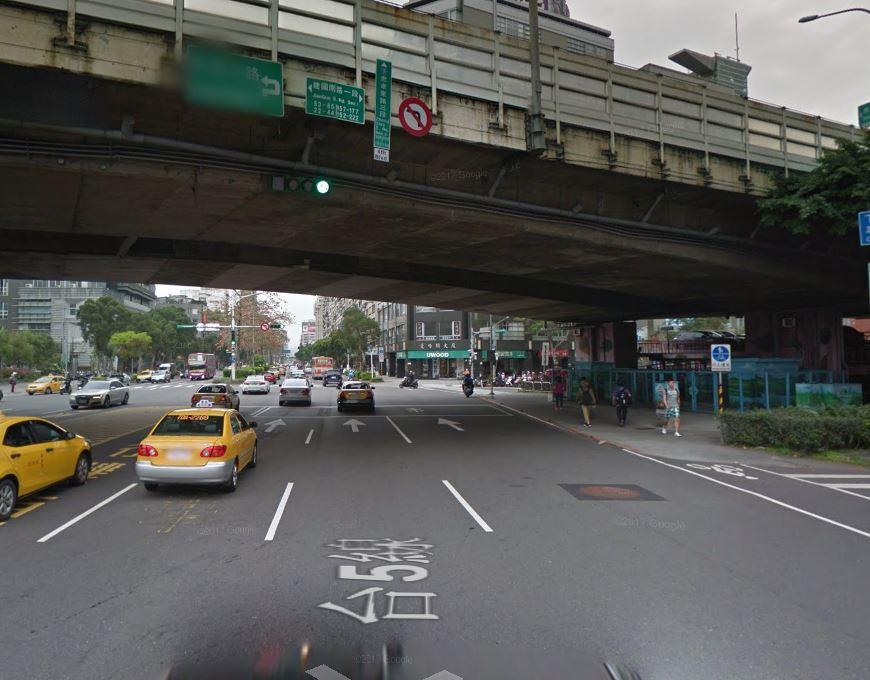green_traffic_light: (268, 170, 331, 195)
no_left_turn: (397, 95, 432, 137)
